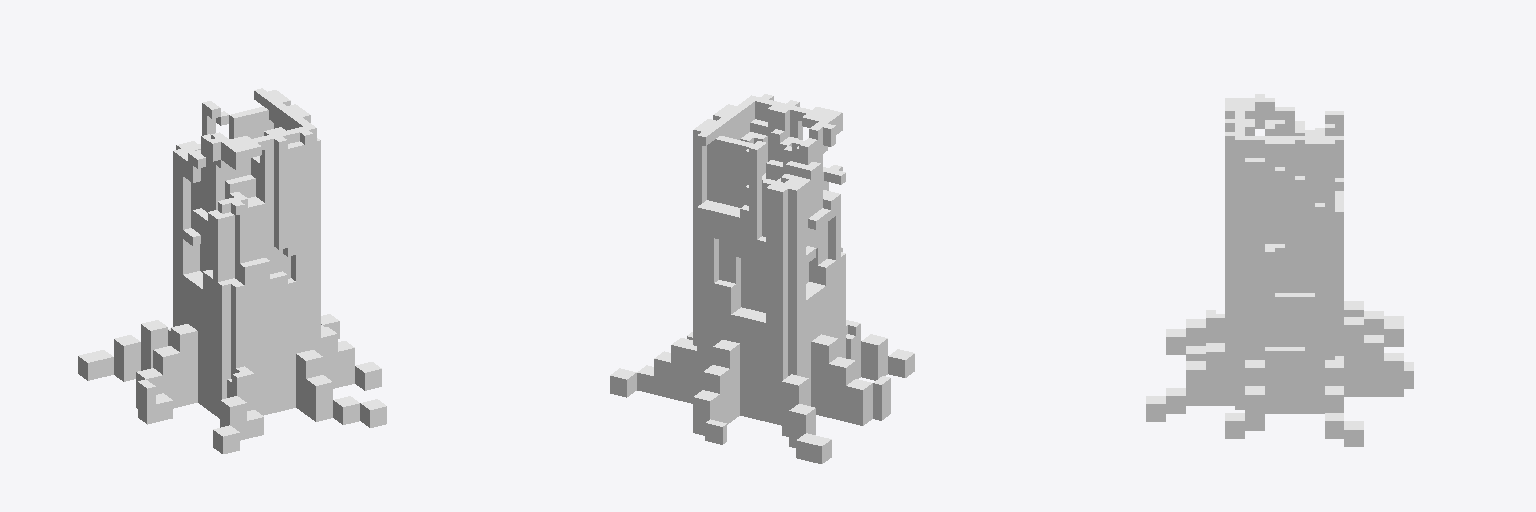
File: pień.obj
The picture shows the model from 3 angles: view 1: azimuth 30°, elevation 25°; view 2: azimuth 150°, elevation 25°; view 3: azimuth 270°, elevation 25°; orthographic projection.
Visible parts, largest first — view 1: object 1; view 2: object 1; view 3: object 1.
Boxes of the visible parts, <box> form: object 1: <box>78,88,386,453</box>; object 1: <box>610,94,914,463</box>; object 1: <box>1146,94,1413,446</box>.
Size of the model in its own units: 2.7 by 3 by 2.7.